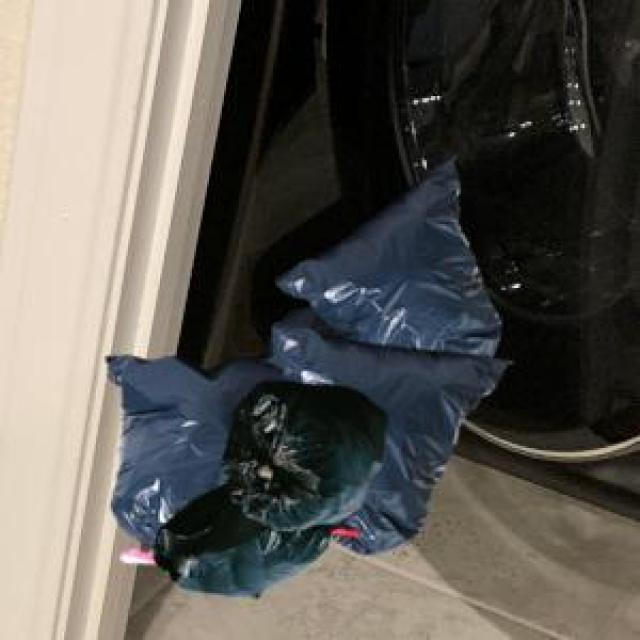waste: (111, 162, 504, 591)
